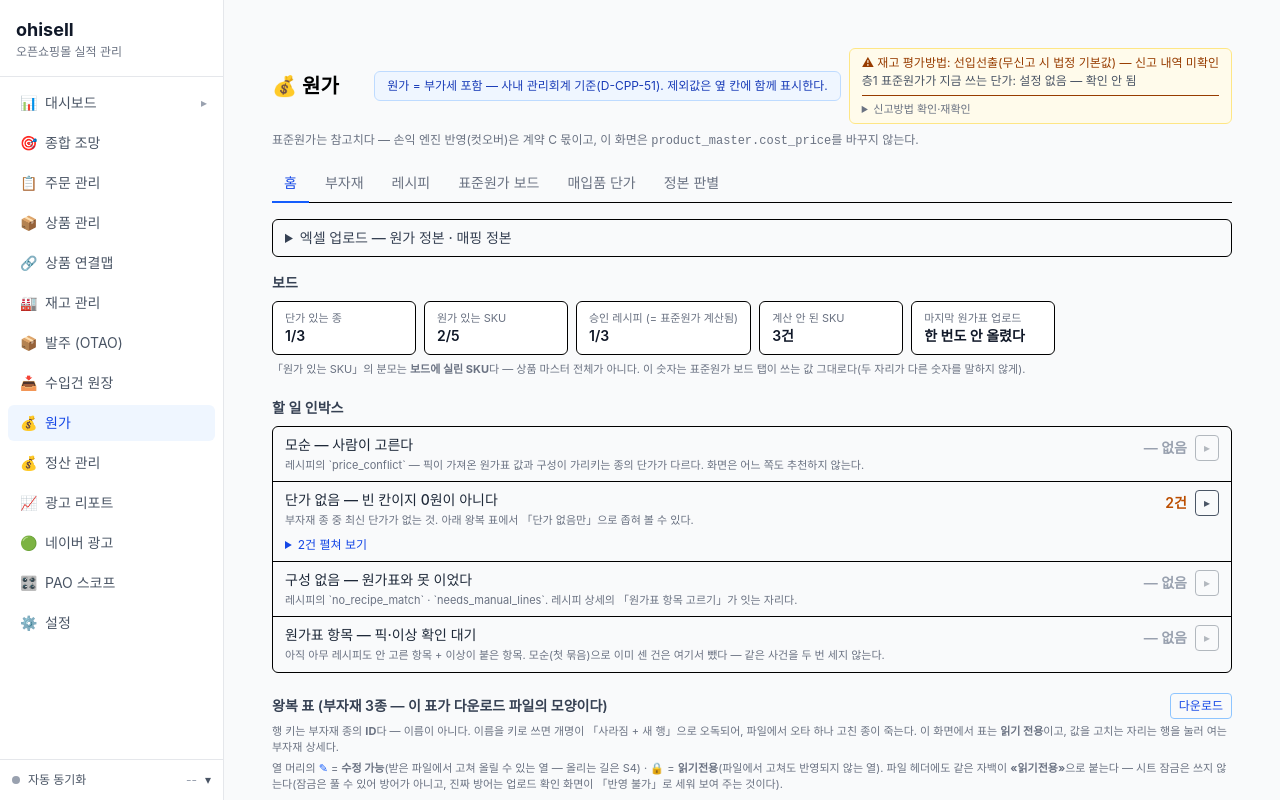
Test case: ★정본 판별이 사람에게 닿는 경로 (계약 D-CPP-64 §4 S2) › 상단 집계와 자백 문구가 같은 화면에 있다
Expected: the heading "💰 원가" is shown, [272,72,339,100]
Click the button "정본 판별" at [691, 184], box [652,165,731,203]
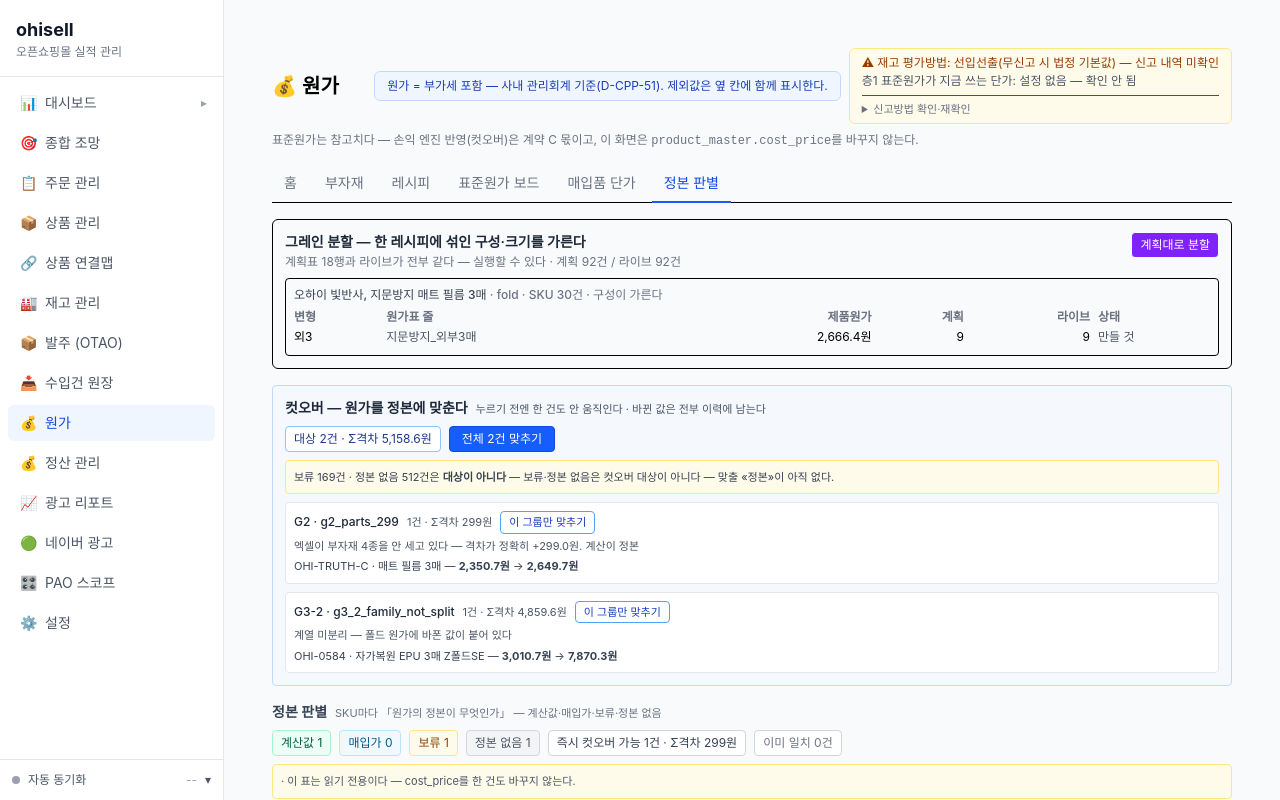
Expected: the text with test id "cost-truth-census-held" reads "보류 1", [410,730,458,756]
Expected: the list with test id "cost-truth-caveats" shows "읽기 전용", [287,774,576,788]
